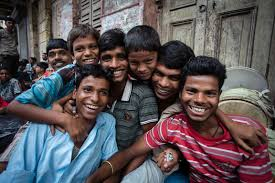no-mask: (181, 60, 222, 127), (70, 69, 108, 123), (125, 24, 157, 83), (153, 42, 184, 100), (99, 32, 129, 84), (66, 27, 100, 67), (42, 40, 74, 70), (1, 66, 12, 82), (34, 62, 47, 75)
